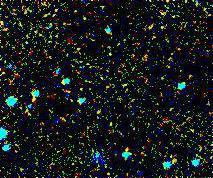star: (162, 146, 192, 176)
